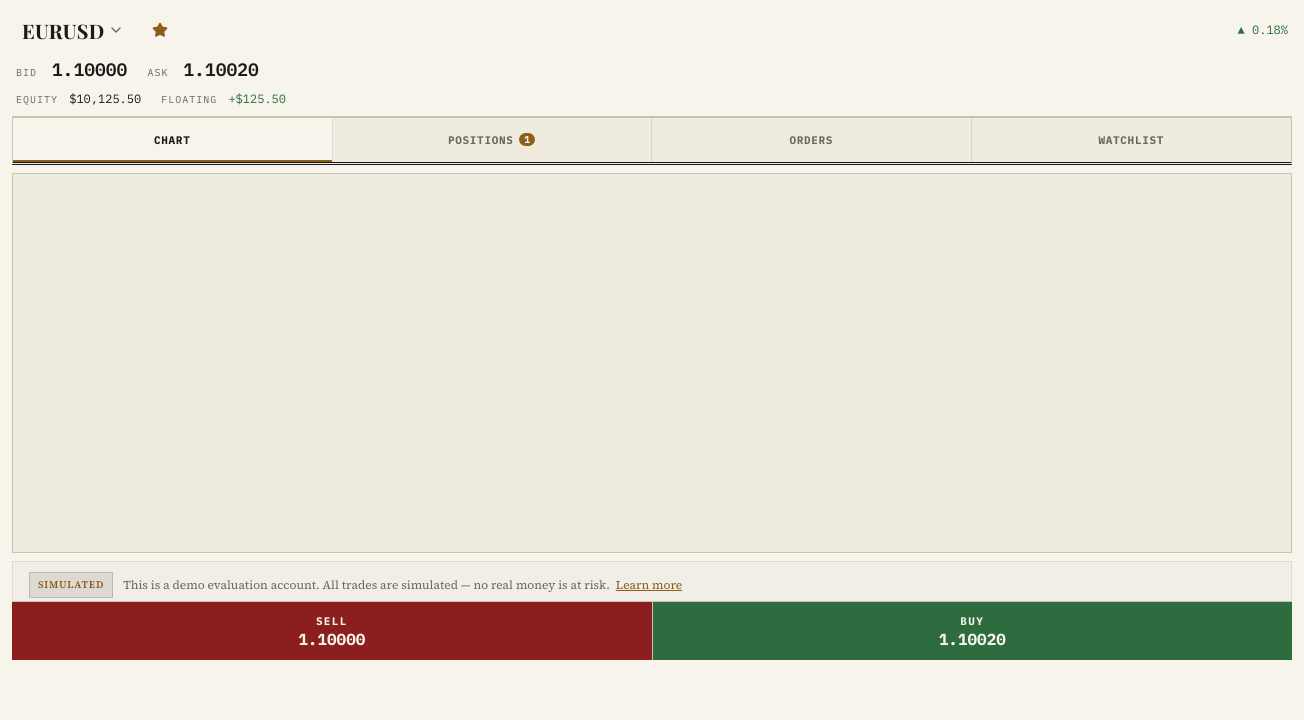
Test: MobileTradingTerminal › requires a second tap to close a position
Later steps or results of the test are not shown.
Click the tab "Positions 1": (492, 140) [332,118,652,162]
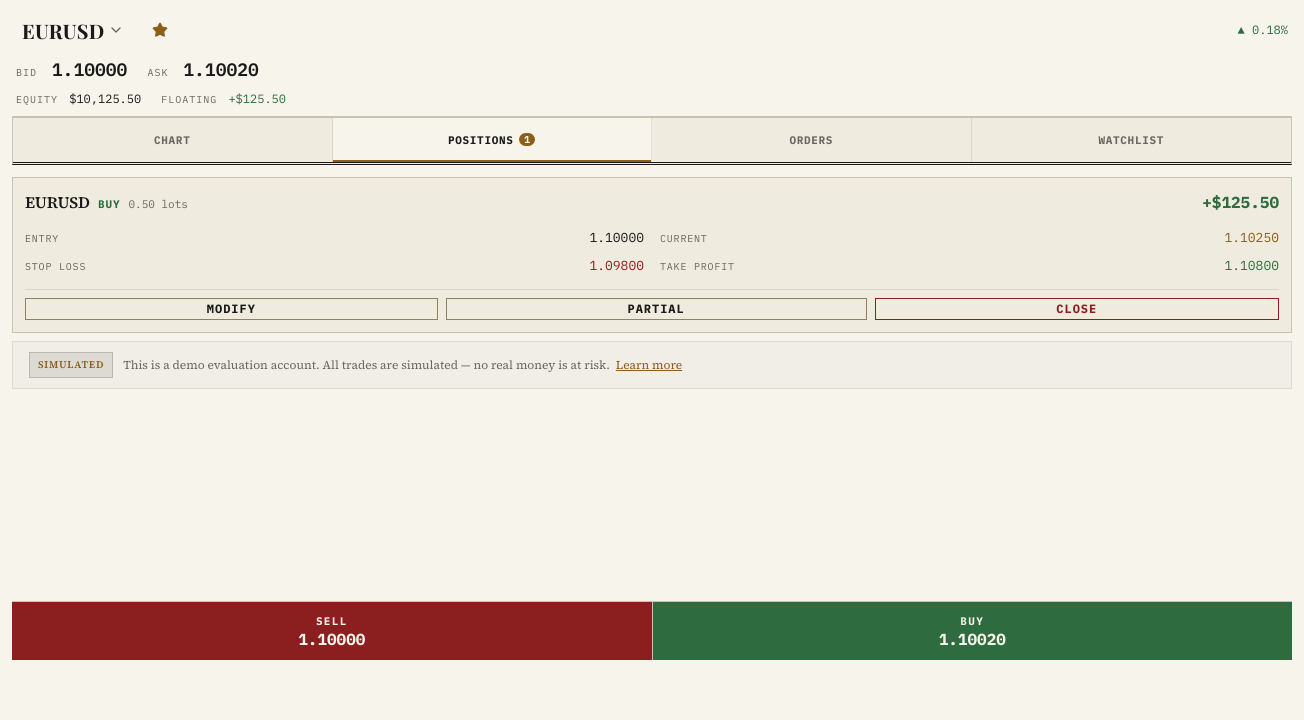
Click the button "Close": (1077, 309) [874,298,1279,320]
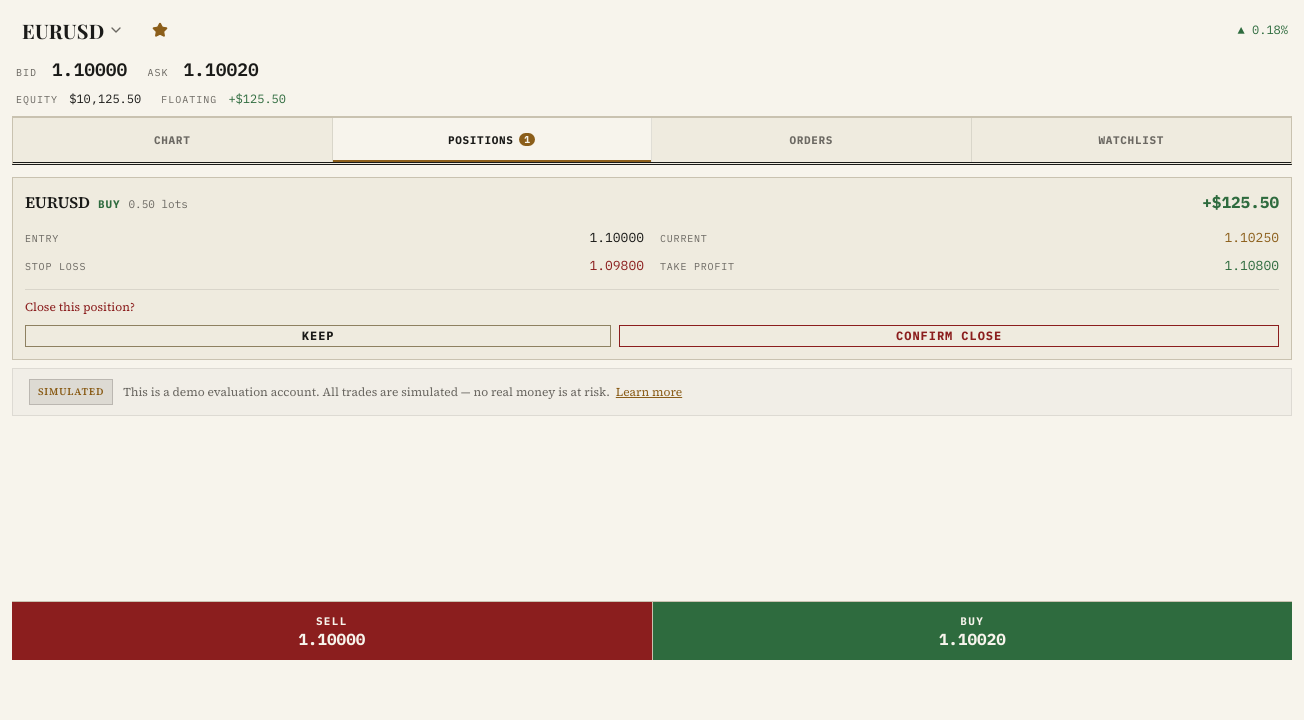
Expected: the text "Close this position?" is shown, [25,299,135,315]
